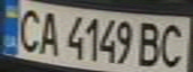1: (81, 14, 100, 62)
4: (60, 11, 84, 61), (97, 16, 118, 64)
9: (115, 17, 139, 65)
A: (33, 7, 63, 56)
B: (136, 19, 166, 69)
C: (154, 19, 190, 70), (12, 4, 45, 54)
